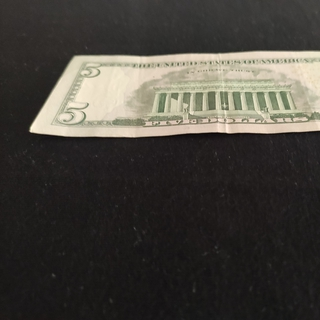5USDBack: (28, 46, 320, 138)
